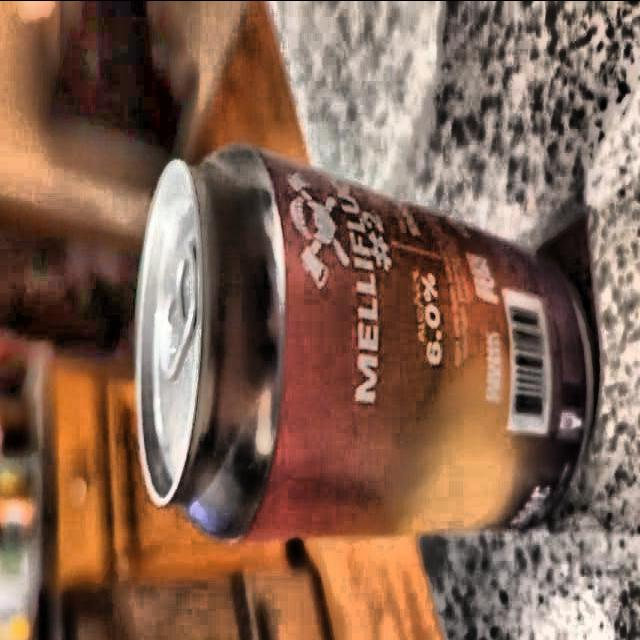litter: (126, 138, 605, 547)
